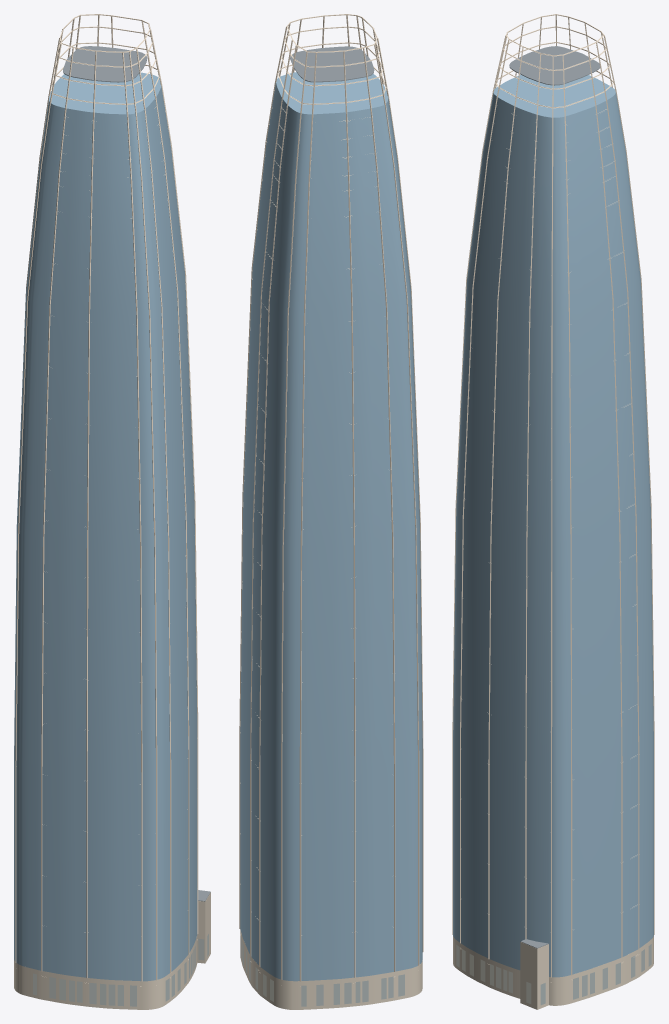
3 views of the same model, side by side, from view 1: azimuth 30°, elevation 25°; view 2: azimuth 150°, elevation 25°; view 3: azimuth 270°, elevation 25° (orthographic).
Parts seen in each view (by area): view 1: glass, trim, stone, roof, window; view 2: glass, trim, stone, roof, window; view 3: glass, trim, stone, roof, window.
Boxes of the visible parts, bbox=[...] form: glass: bbox=[14, 72, 197, 981]; trim: bbox=[15, 14, 198, 986]; stone: bbox=[14, 892, 210, 1009]; roof: bbox=[63, 46, 210, 901]; window: bbox=[33, 934, 208, 1006]; glass: bbox=[240, 72, 422, 981]; trim: bbox=[239, 14, 423, 983]; stone: bbox=[240, 929, 422, 1009]; roof: bbox=[290, 46, 374, 82]; window: bbox=[240, 935, 404, 1006]; glass: bbox=[453, 75, 653, 977]; trim: bbox=[452, 14, 654, 982]; stone: bbox=[453, 935, 653, 1009]; roof: bbox=[509, 46, 600, 948]; window: bbox=[456, 944, 651, 1005].
Size of the model in its own units: 67.32 by 326 by 64.41.
